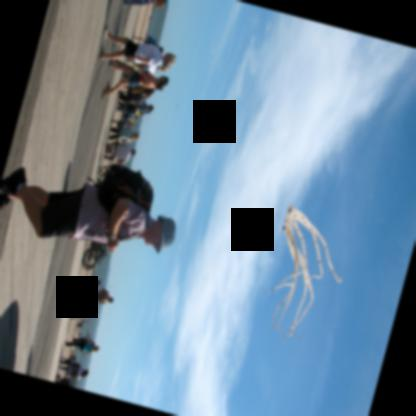backpack: (96, 163, 152, 215), (136, 88, 154, 98)
handbag: (103, 145, 113, 156), (144, 36, 155, 45), (83, 337, 90, 344)
